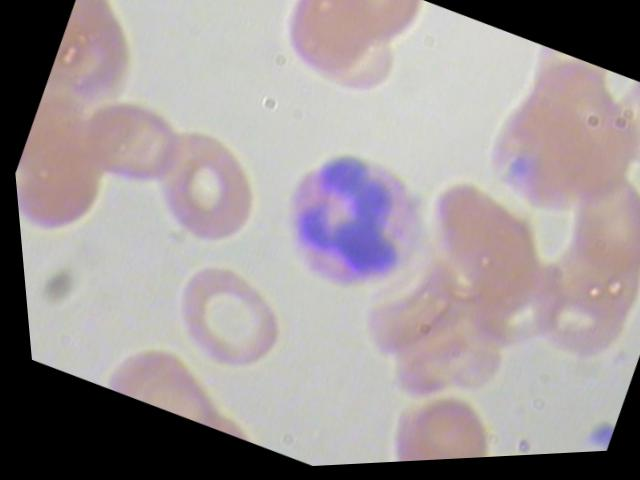Platelets: (567, 419, 608, 457)
Red Blood Cells: (129, 240, 303, 399), (121, 118, 277, 265), (56, 79, 202, 206), (538, 166, 639, 309), (262, 0, 400, 98), (359, 379, 504, 466)
White Blood Cells: (239, 117, 478, 337)
